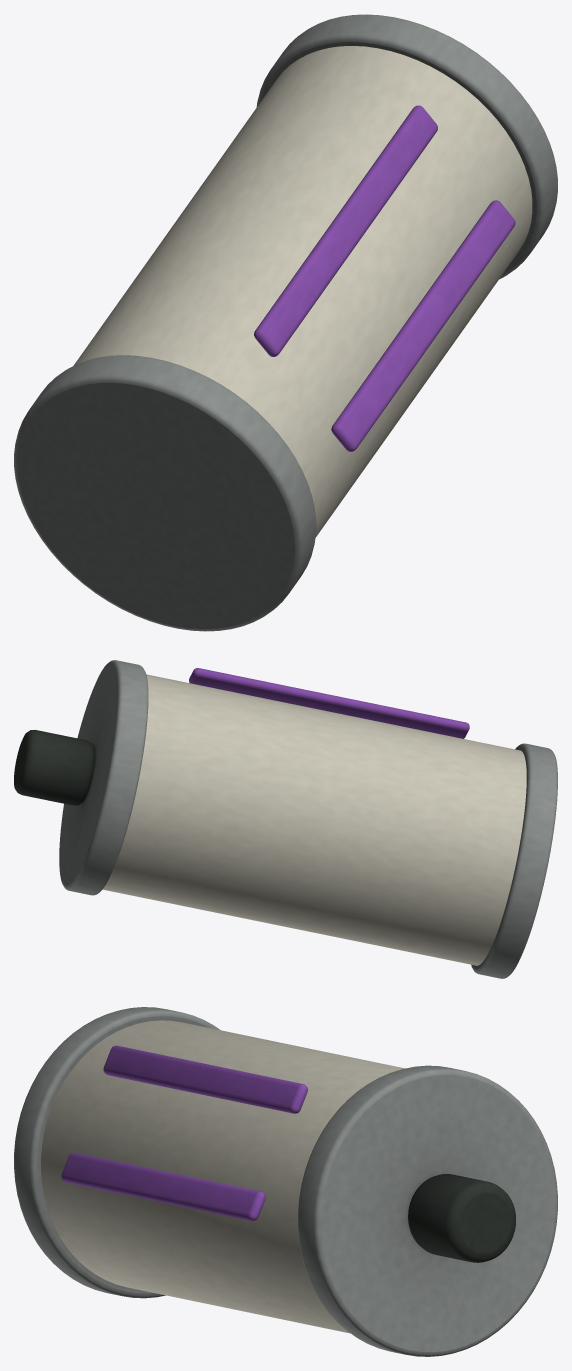
3 renders of one model, top to bottom at view 1: azimuth 30°, elevation 25°; view 2: azimuth 150°, elevation 25°; view 3: azimuth 270°, elevation 25°, orthographic. The views are drawn at different scales.
Visible parts, largest first — view 1: Cartridge body; view 2: Cartridge body; view 3: Cartridge body.
Part boxes in pixels (x1,y1,x2,y2): Cartridge body: (14,14,557,631); Cartridge body: (14,660,557,978); Cartridge body: (14,1007,557,1356).
Size of the model in its own units: 1.29 by 0.8649 by 1.13.
1 material, 1 textured.
